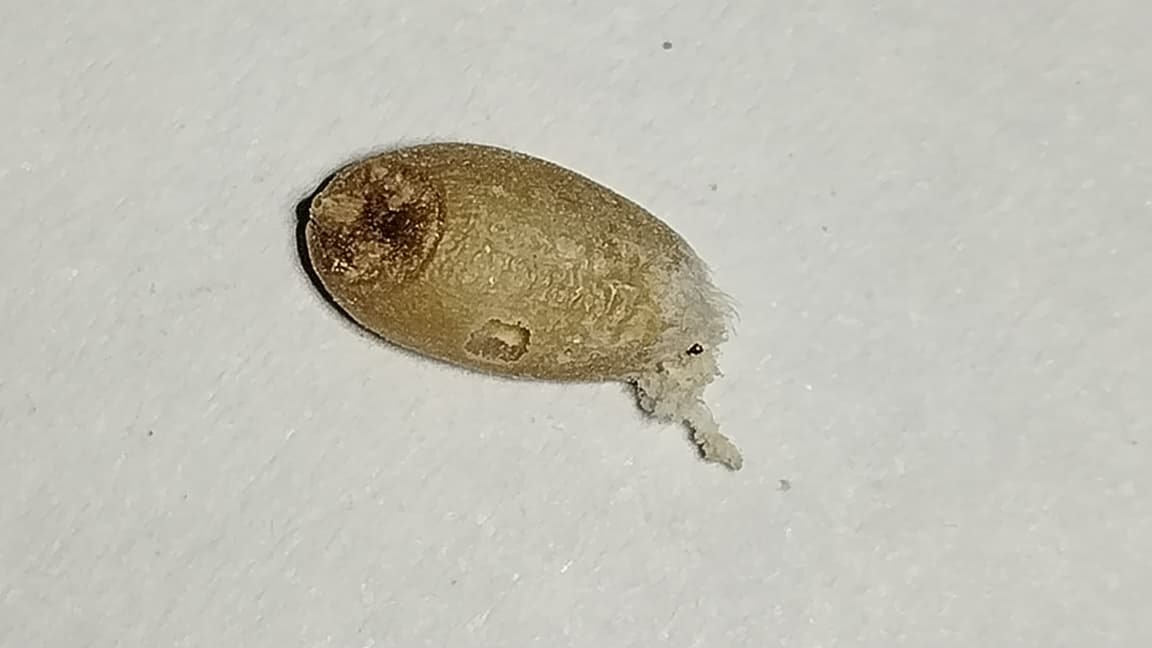damage: (305, 147, 742, 469)
insectdamage: (465, 319, 530, 363)
molddamage: (637, 259, 741, 469)
staindamage: (322, 176, 445, 277)
